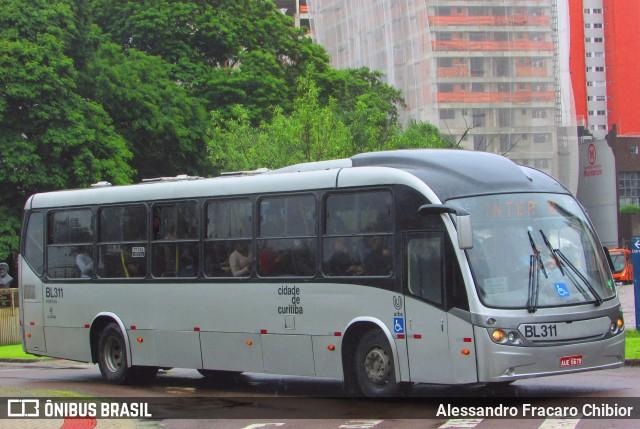INTER2: (480, 195, 561, 221)
